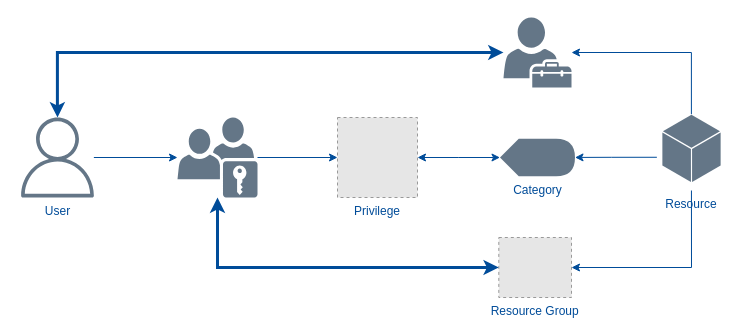
The diagram is 752 pixels wide and 335 high, and some of its shapes have lost their labels. Grey dashed boxes stand in for pictures. Here are the shapes that lost their labels. From the top down, the box of each, then its label:
(503, 17, 571, 87): Tenent
(177, 117, 257, 197): Role
